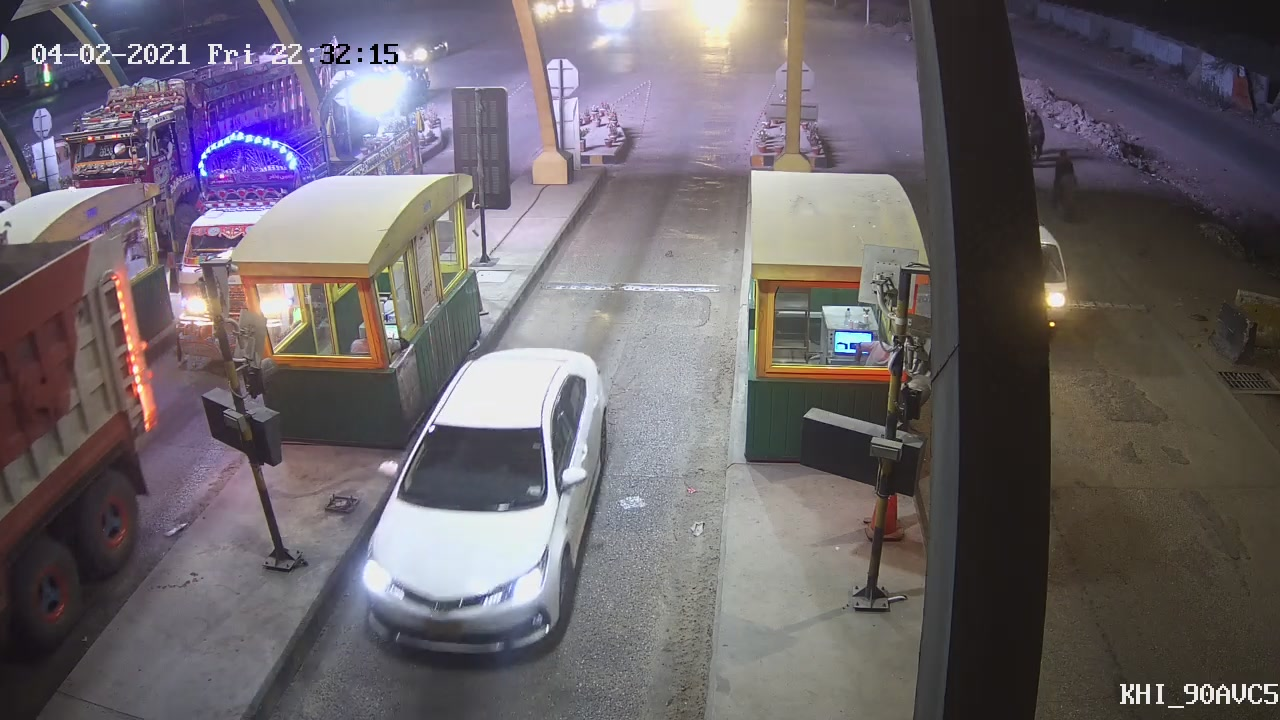F1: (358, 345, 614, 661)
